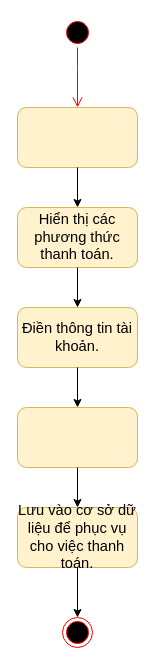
Some shapes in this 155 by 665 pixel diagram are drawn without their labels. The centre of each missing label's shape, as x and y in pixels:
"Chọn mục quản lý phương thức thanh toán" goes at point (77, 137).
"Nhấn “Save payment method”." goes at point (77, 437).
